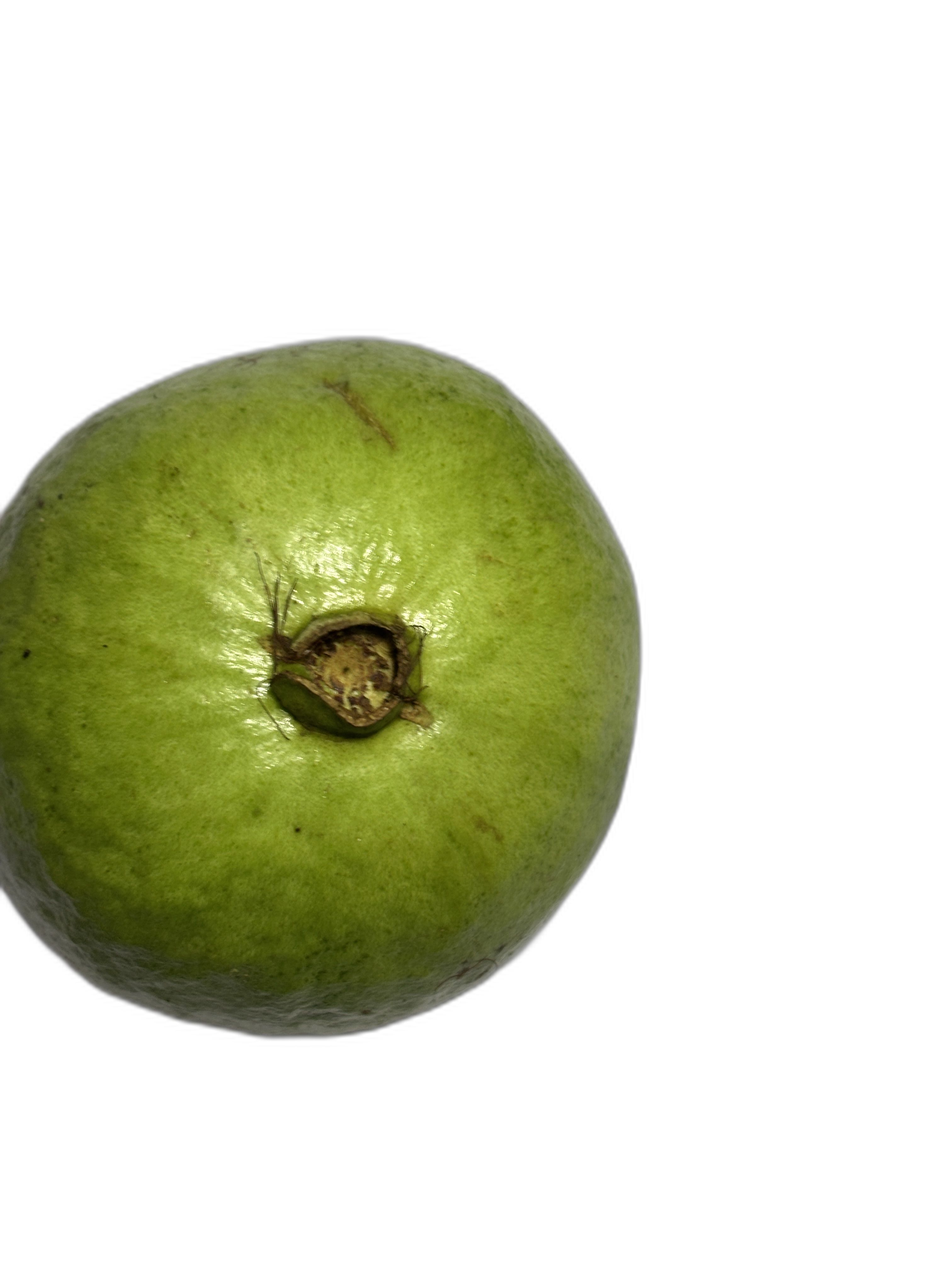guava: (119, 128, 874, 909)
